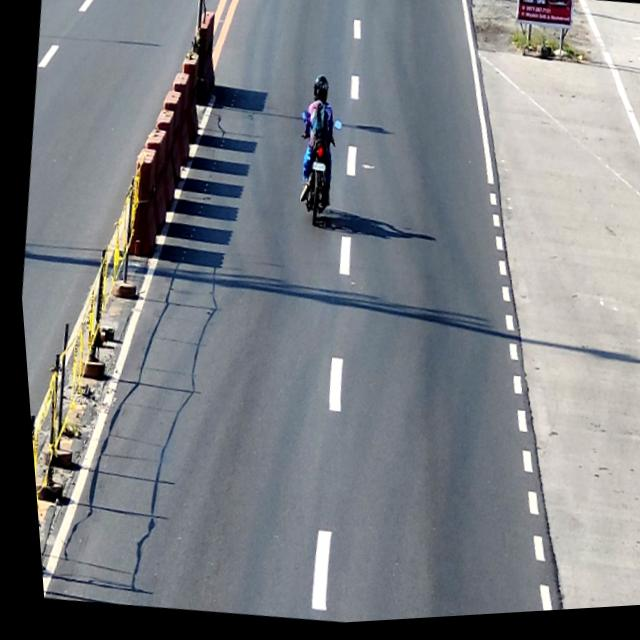License-Plate: (308, 165, 324, 176)
Motorcycle: (284, 109, 347, 234)
